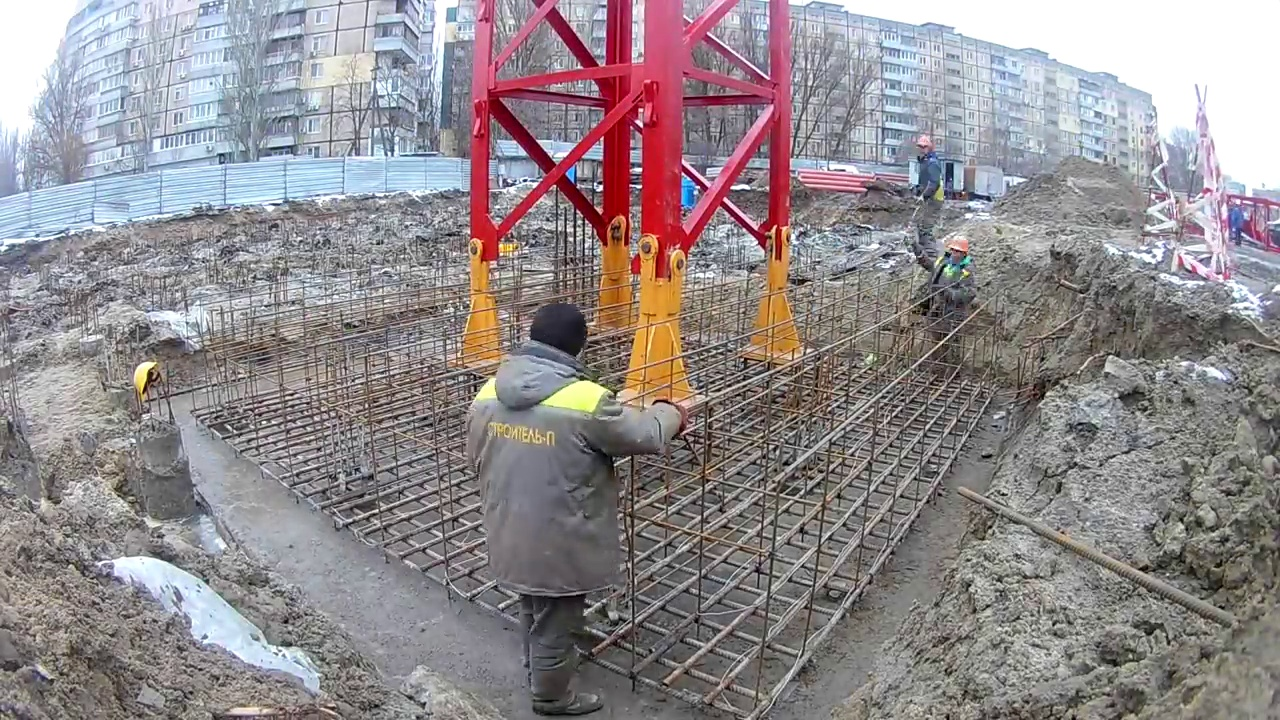helmet: (131, 357, 159, 402), (946, 237, 969, 253)
helmet-off: (524, 301, 587, 373)
helmet-on: (938, 237, 972, 270)
person: (471, 292, 695, 720), (908, 237, 976, 336), (907, 136, 944, 240)
